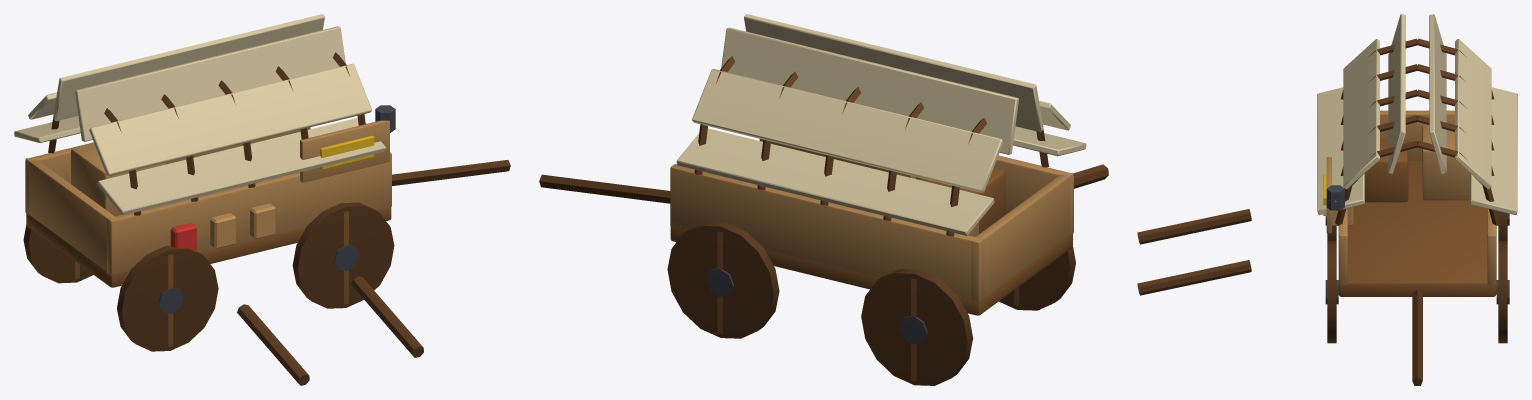
File: trader_wagon.glb
The picture shows the model from 3 angles, left to right: view 1: azimuth 30°, elevation 25°; view 2: azimuth 150°, elevation 25°; view 3: azimuth 270°, elevation 25°; orthographic projection. The views are drawn at different scales.
Parts seen in each view (by area): view 1: trader_wagon, trader_wagon_craft; view 2: trader_wagon, trader_wagon_craft; view 3: trader_wagon, trader_wagon_craft.
Boxes of the visible parts, x1,y1,x2,y2 form: trader_wagon: [14, 14, 510, 351]; trader_wagon_craft: [170, 203, 423, 385]; trader_wagon: [539, 14, 1086, 385]; trader_wagon_craft: [896, 164, 1108, 188]; trader_wagon: [1317, 14, 1517, 385]; trader_wagon_craft: [1137, 207, 1353, 295].
Bounding box in the file's own units: 5.01 × 2.64 × 4.09.
